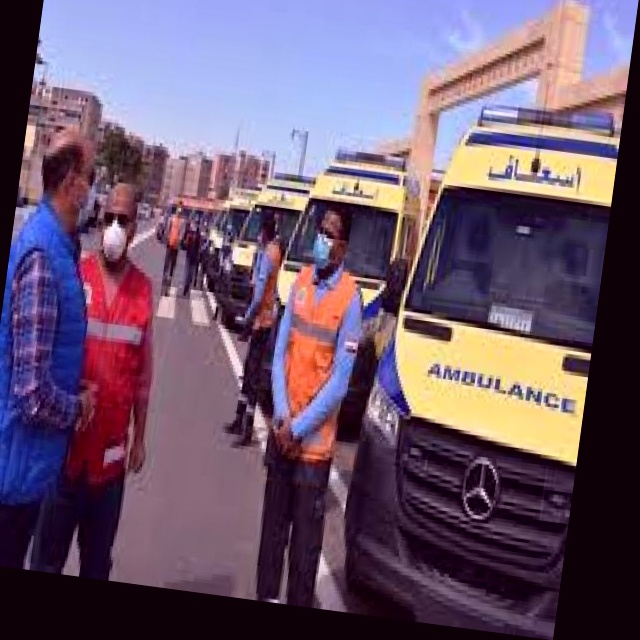Ambulance: (345, 69, 626, 640), (257, 147, 430, 435), (230, 143, 312, 345)
person: (30, 174, 184, 580), (0, 119, 136, 573), (242, 203, 380, 607)
